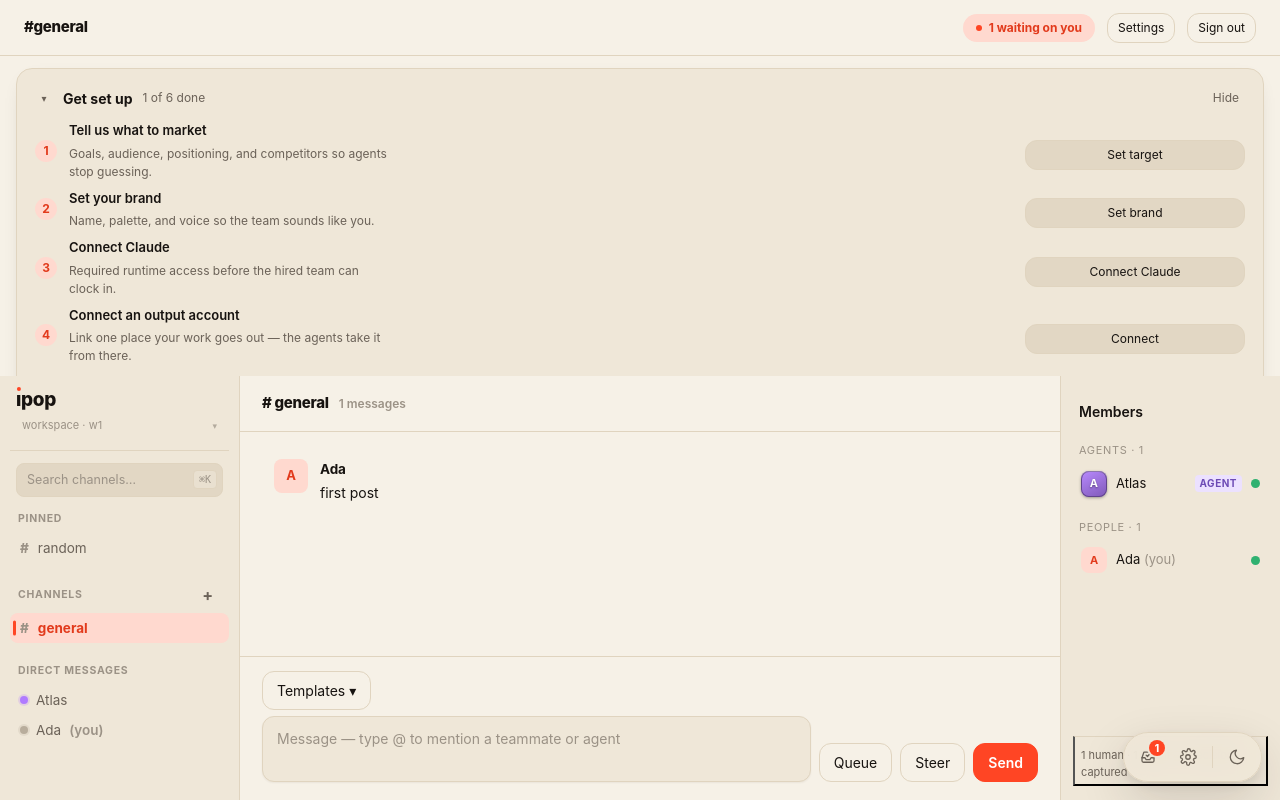
Test: ConsoleView coordination approvals inbox (#472) › owner + flag ON ⇒ the 'waiting on you' pill opens the Approvals inbox with the pending action
The image size is (1280, 800).
Note: The pill is present (1 pending)…
Click the button "1 waiting on you".
click(1029, 28)  # box [963, 14, 1095, 42]
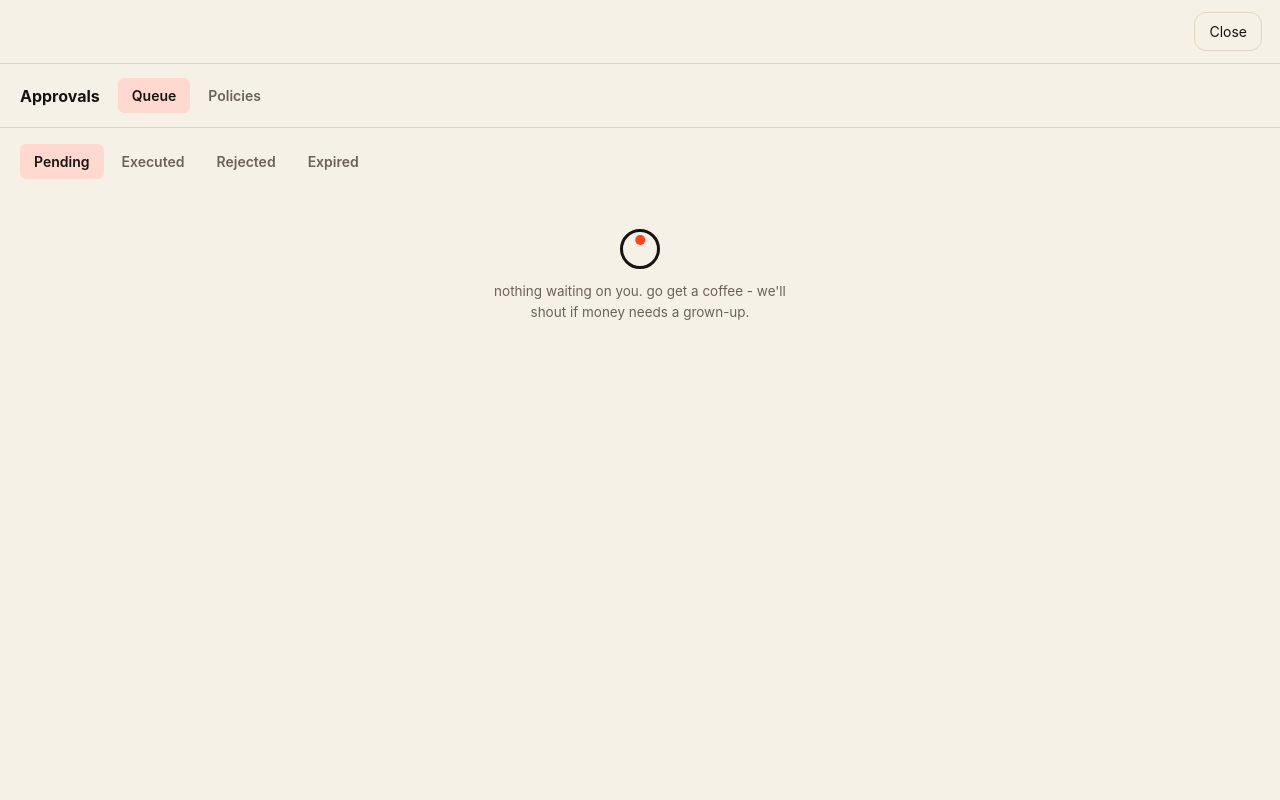
Now the element "Approvals" is shown, box [0, 64, 1279, 375]
Now the tab "Pending" is shown, box [20, 144, 104, 179]
